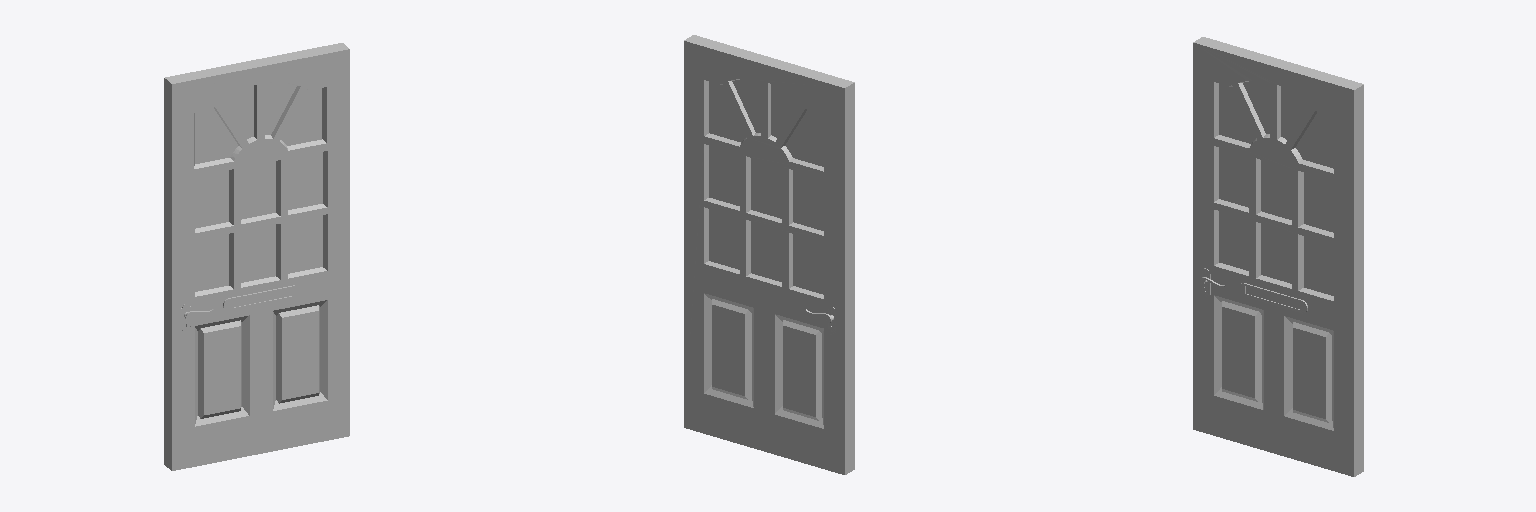
File: door_000017.obj
The picture shows the model from 3 angles: view 1: azimuth 30°, elevation 25°; view 2: azimuth 150°, elevation 25°; view 3: azimuth 330°, elevation 25°; orthographic projection.
Visible parts, largest first — view 1: Door.003; view 2: Door.003; view 3: Door.003.
Part boxes in pixels (left/top/right/bottom): Door.003: left=164, top=43, right=349, bottom=470; Door.003: left=684, top=35, right=854, bottom=474; Door.003: left=1193, top=37, right=1363, bottom=476.
Bounding box in the file's own units: 0.7423 × 1.6 × 0.1487.